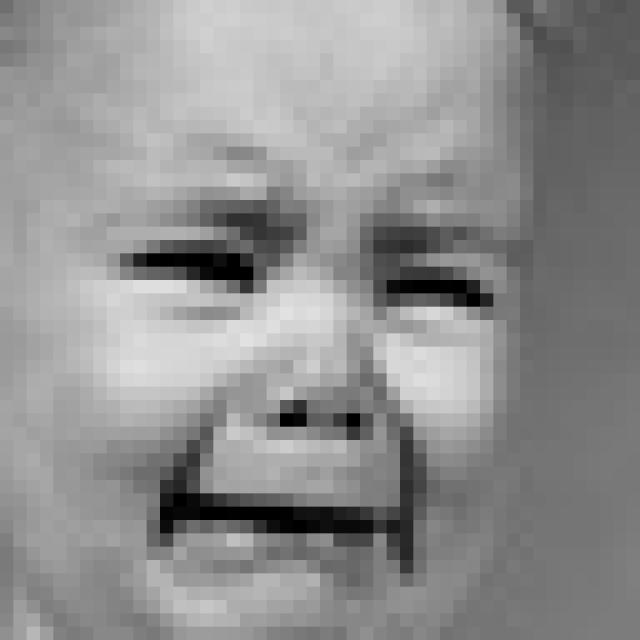sad: (79, 130, 527, 596)
